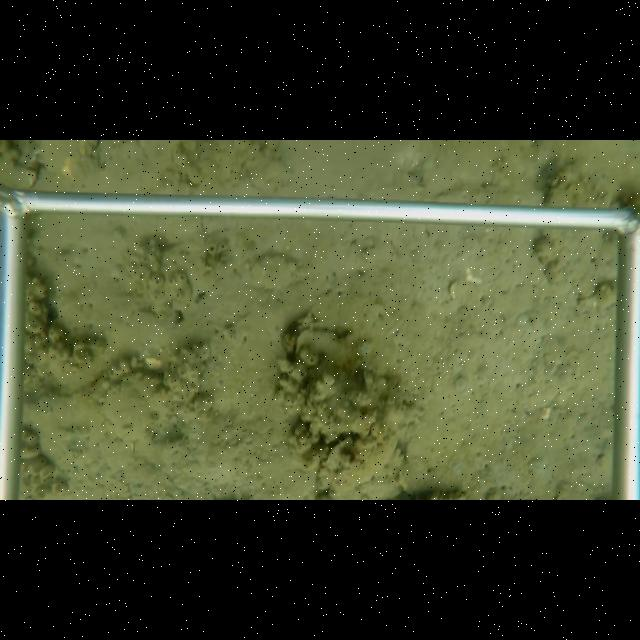Oyster-Closed: (314, 435, 399, 496), (240, 253, 304, 290)
